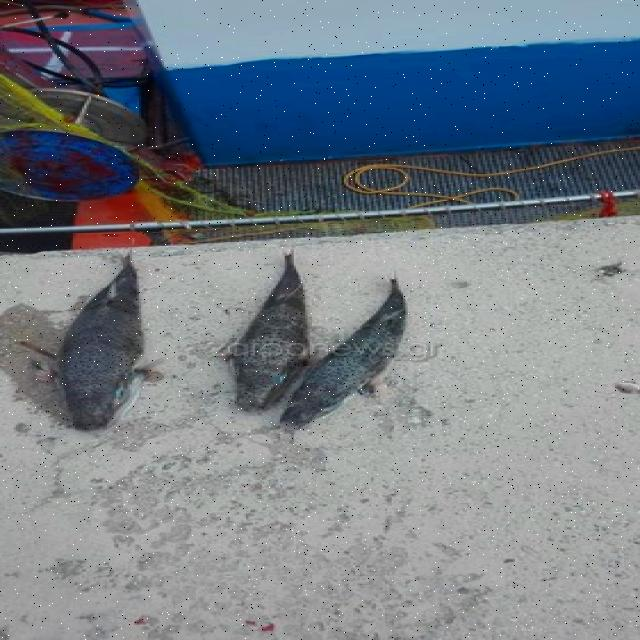Balik: (281, 280, 407, 428), (57, 256, 148, 430), (228, 254, 307, 410)
